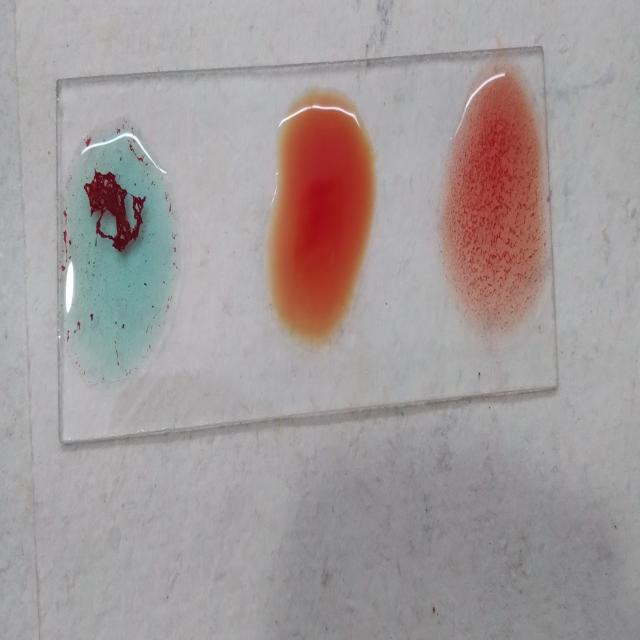A: (61, 116, 181, 390)
D: (444, 64, 546, 351)
